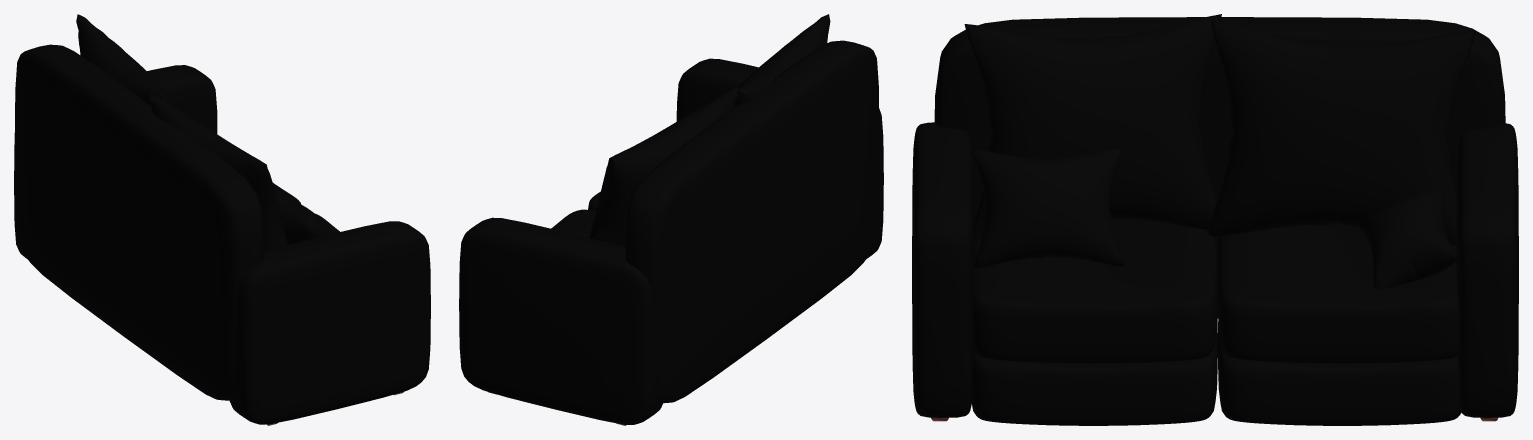
File: free_3d_sofa__game_ready_asset.glb
The picture shows the model from 3 angles, left to right: view 1: azimuth 30°, elevation 25°; view 2: azimuth 150°, elevation 25°; view 3: azimuth 270°, elevation 25°; orthographic projection. The views are drawn at different scales.
Parts seen in each view (by area): view 1: Sofa_0; view 2: Sofa_0; view 3: Sofa_0.
Boxes of the visible parts, box(x1,y1,x2,y2) form: Sofa_0: box(14, 14, 430, 424); Sofa_0: box(459, 14, 883, 424); Sofa_0: box(912, 14, 1518, 425).
Size of the model in its own units: 3.94 by 4.79 by 8.21.
Materials: 2 (1 with a texture image).
